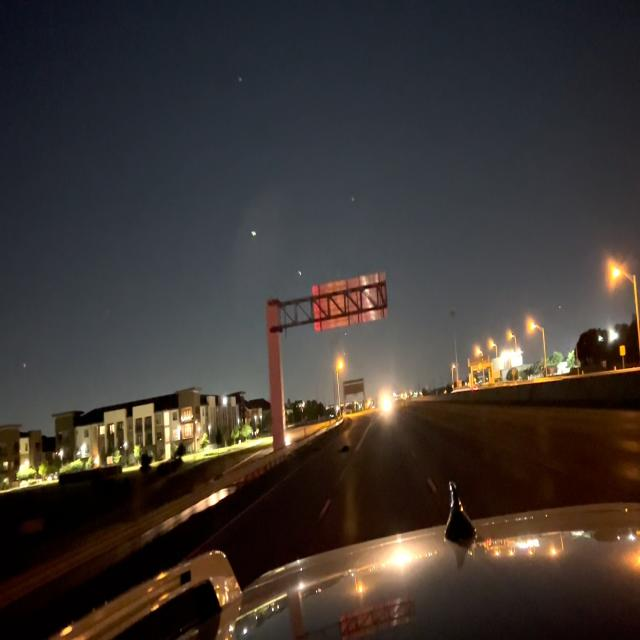back-of-sign: (312, 267, 390, 336)
